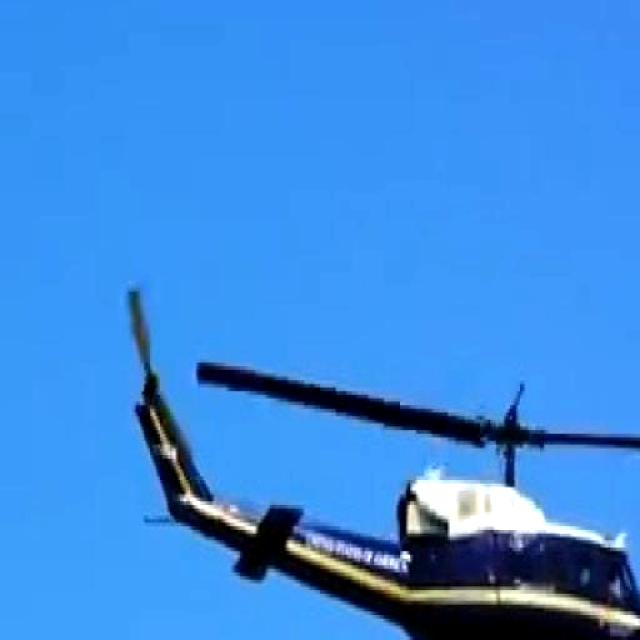drone: (118, 202, 640, 640)
